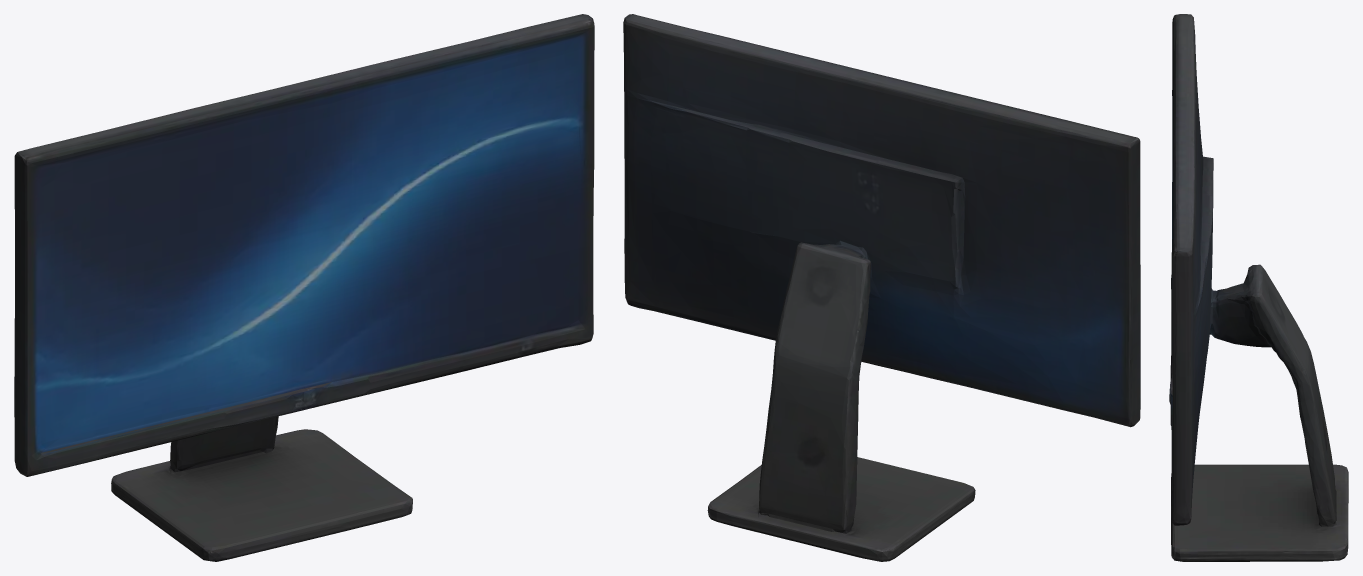
Rendered from monitor_desktop_bluewave.glb.
3 renders of one model, left to right at view 1: azimuth 30°, elevation 25°; view 2: azimuth 150°, elevation 25°; view 3: azimuth 270°, elevation 25°, orthographic. The views are drawn at different scales.
Visible parts, largest first — view 1: geometry_0.004; view 2: geometry_0.004; view 3: geometry_0.004.
Part boxes in pixels (x1=…): geometry_0.004: x1=14, y1=14, x2=594, y2=561; geometry_0.004: x1=623, y1=14, x2=1140, y2=561; geometry_0.004: x1=1169, y1=14, x2=1348, y2=561.
Size of the model in its own units: 0.5125 by 0.3861 by 0.1625.
1 material, 1 textured.
